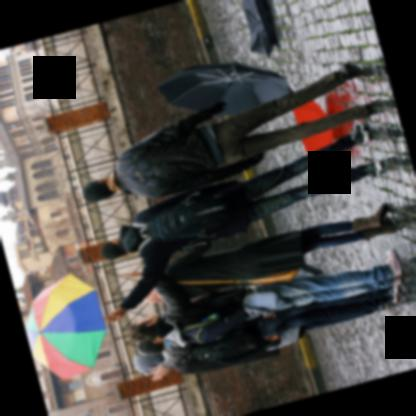backpack: (146, 185, 246, 238), (181, 304, 245, 343), (181, 331, 259, 360)
handbag: (174, 266, 300, 283), (242, 284, 278, 319)
